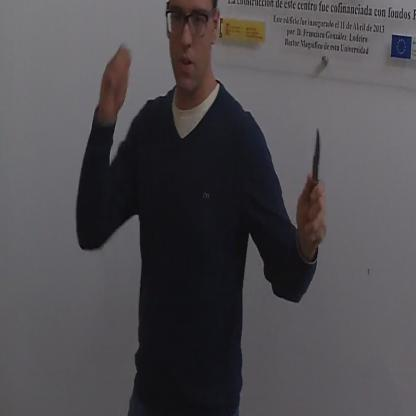knife: (305, 116, 329, 263)
